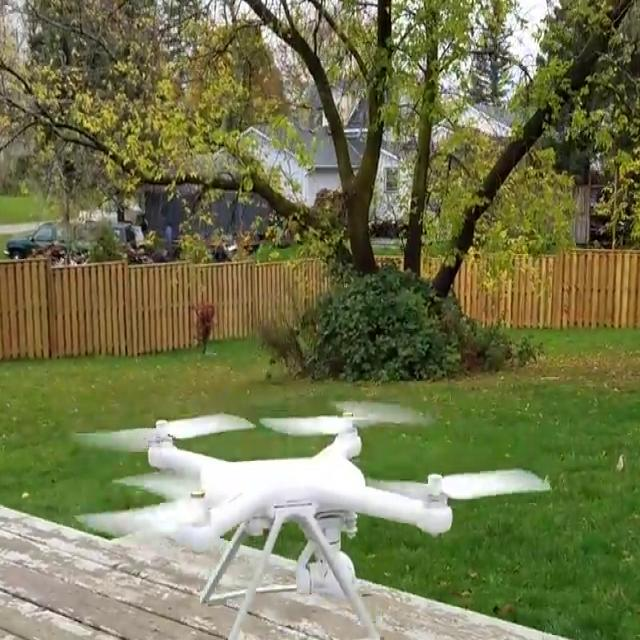drone: (42, 380, 560, 602)
